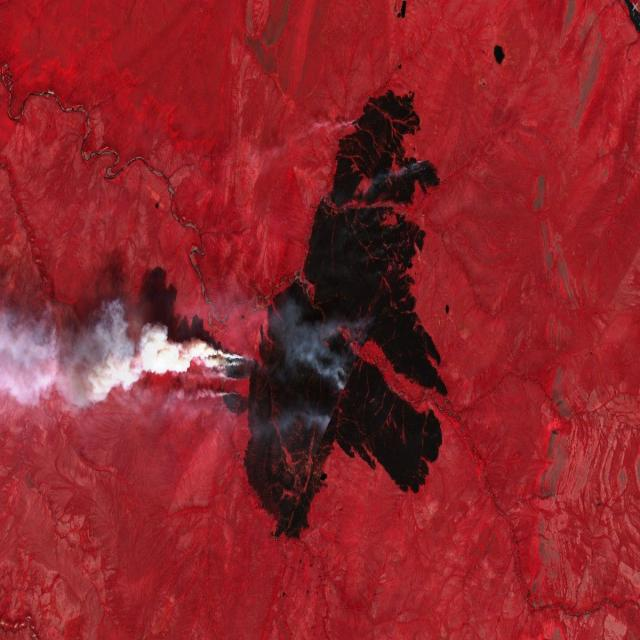fire: (212, 338, 261, 430), (390, 152, 436, 192)
